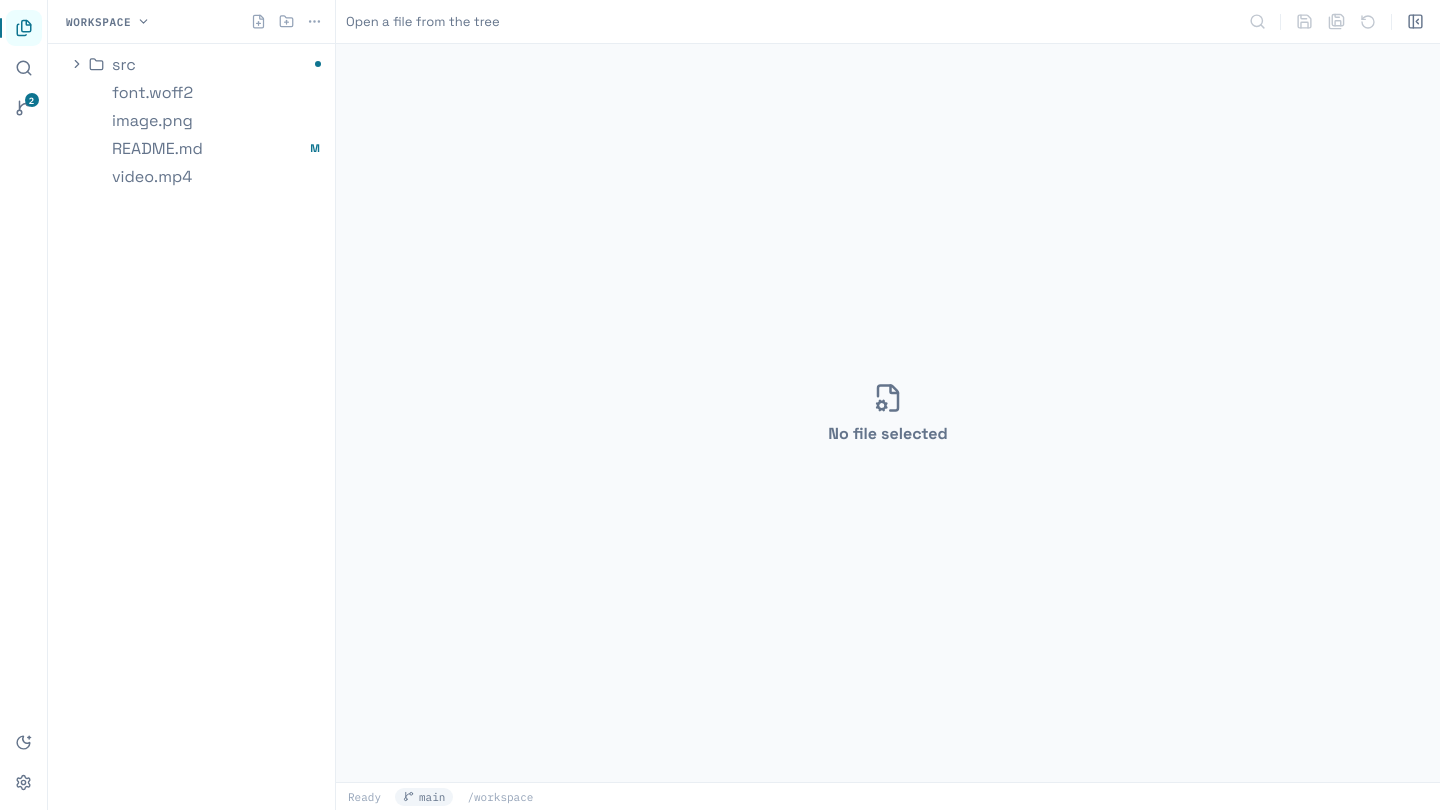
Test: App shell interactions › keeps first-level folders collapsed until the user opens them
expect the text "App.tsx" is not shown: met
Click the list item "src" at (77, 64), box [64,50,327,78]
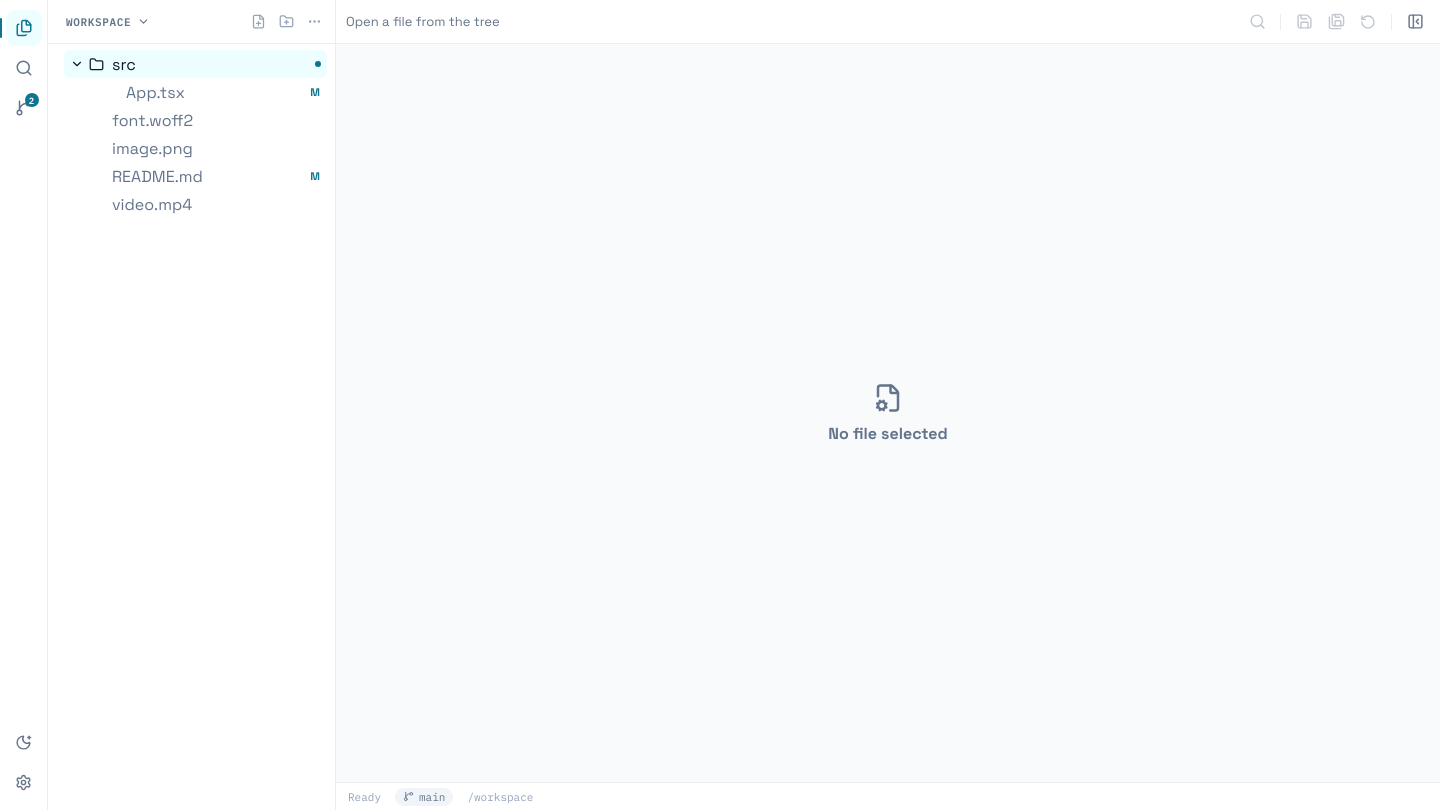
expect the list item "App.tsx" is shown: met, box [78,78,327,106]
